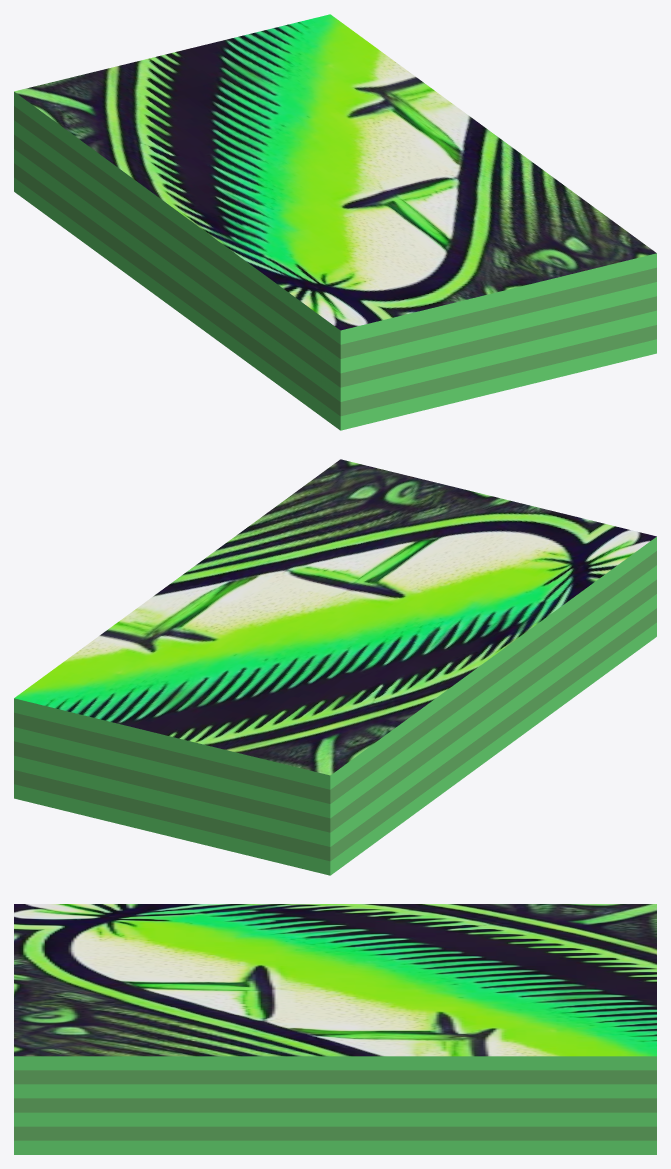
Rendered from WienerDollars.fbx.
3 renders of one model, top to bottom at view 1: azimuth 30°, elevation 25°; view 2: azimuth 150°, elevation 25°; view 3: azimuth 270°, elevation 25°, orthographic.
Parts seen in each view (by area): view 1: Cube; view 2: Cube; view 3: Cube.
Part boxes in pixels (x1,y1,x2,y2): Cube: (14,14,656,430); Cube: (14,459,656,875); Cube: (14,904,656,1154).
Bounding box in the file's own units: 200 × 60.53 × 357.
Materials: 4 (2 with a texture image).
